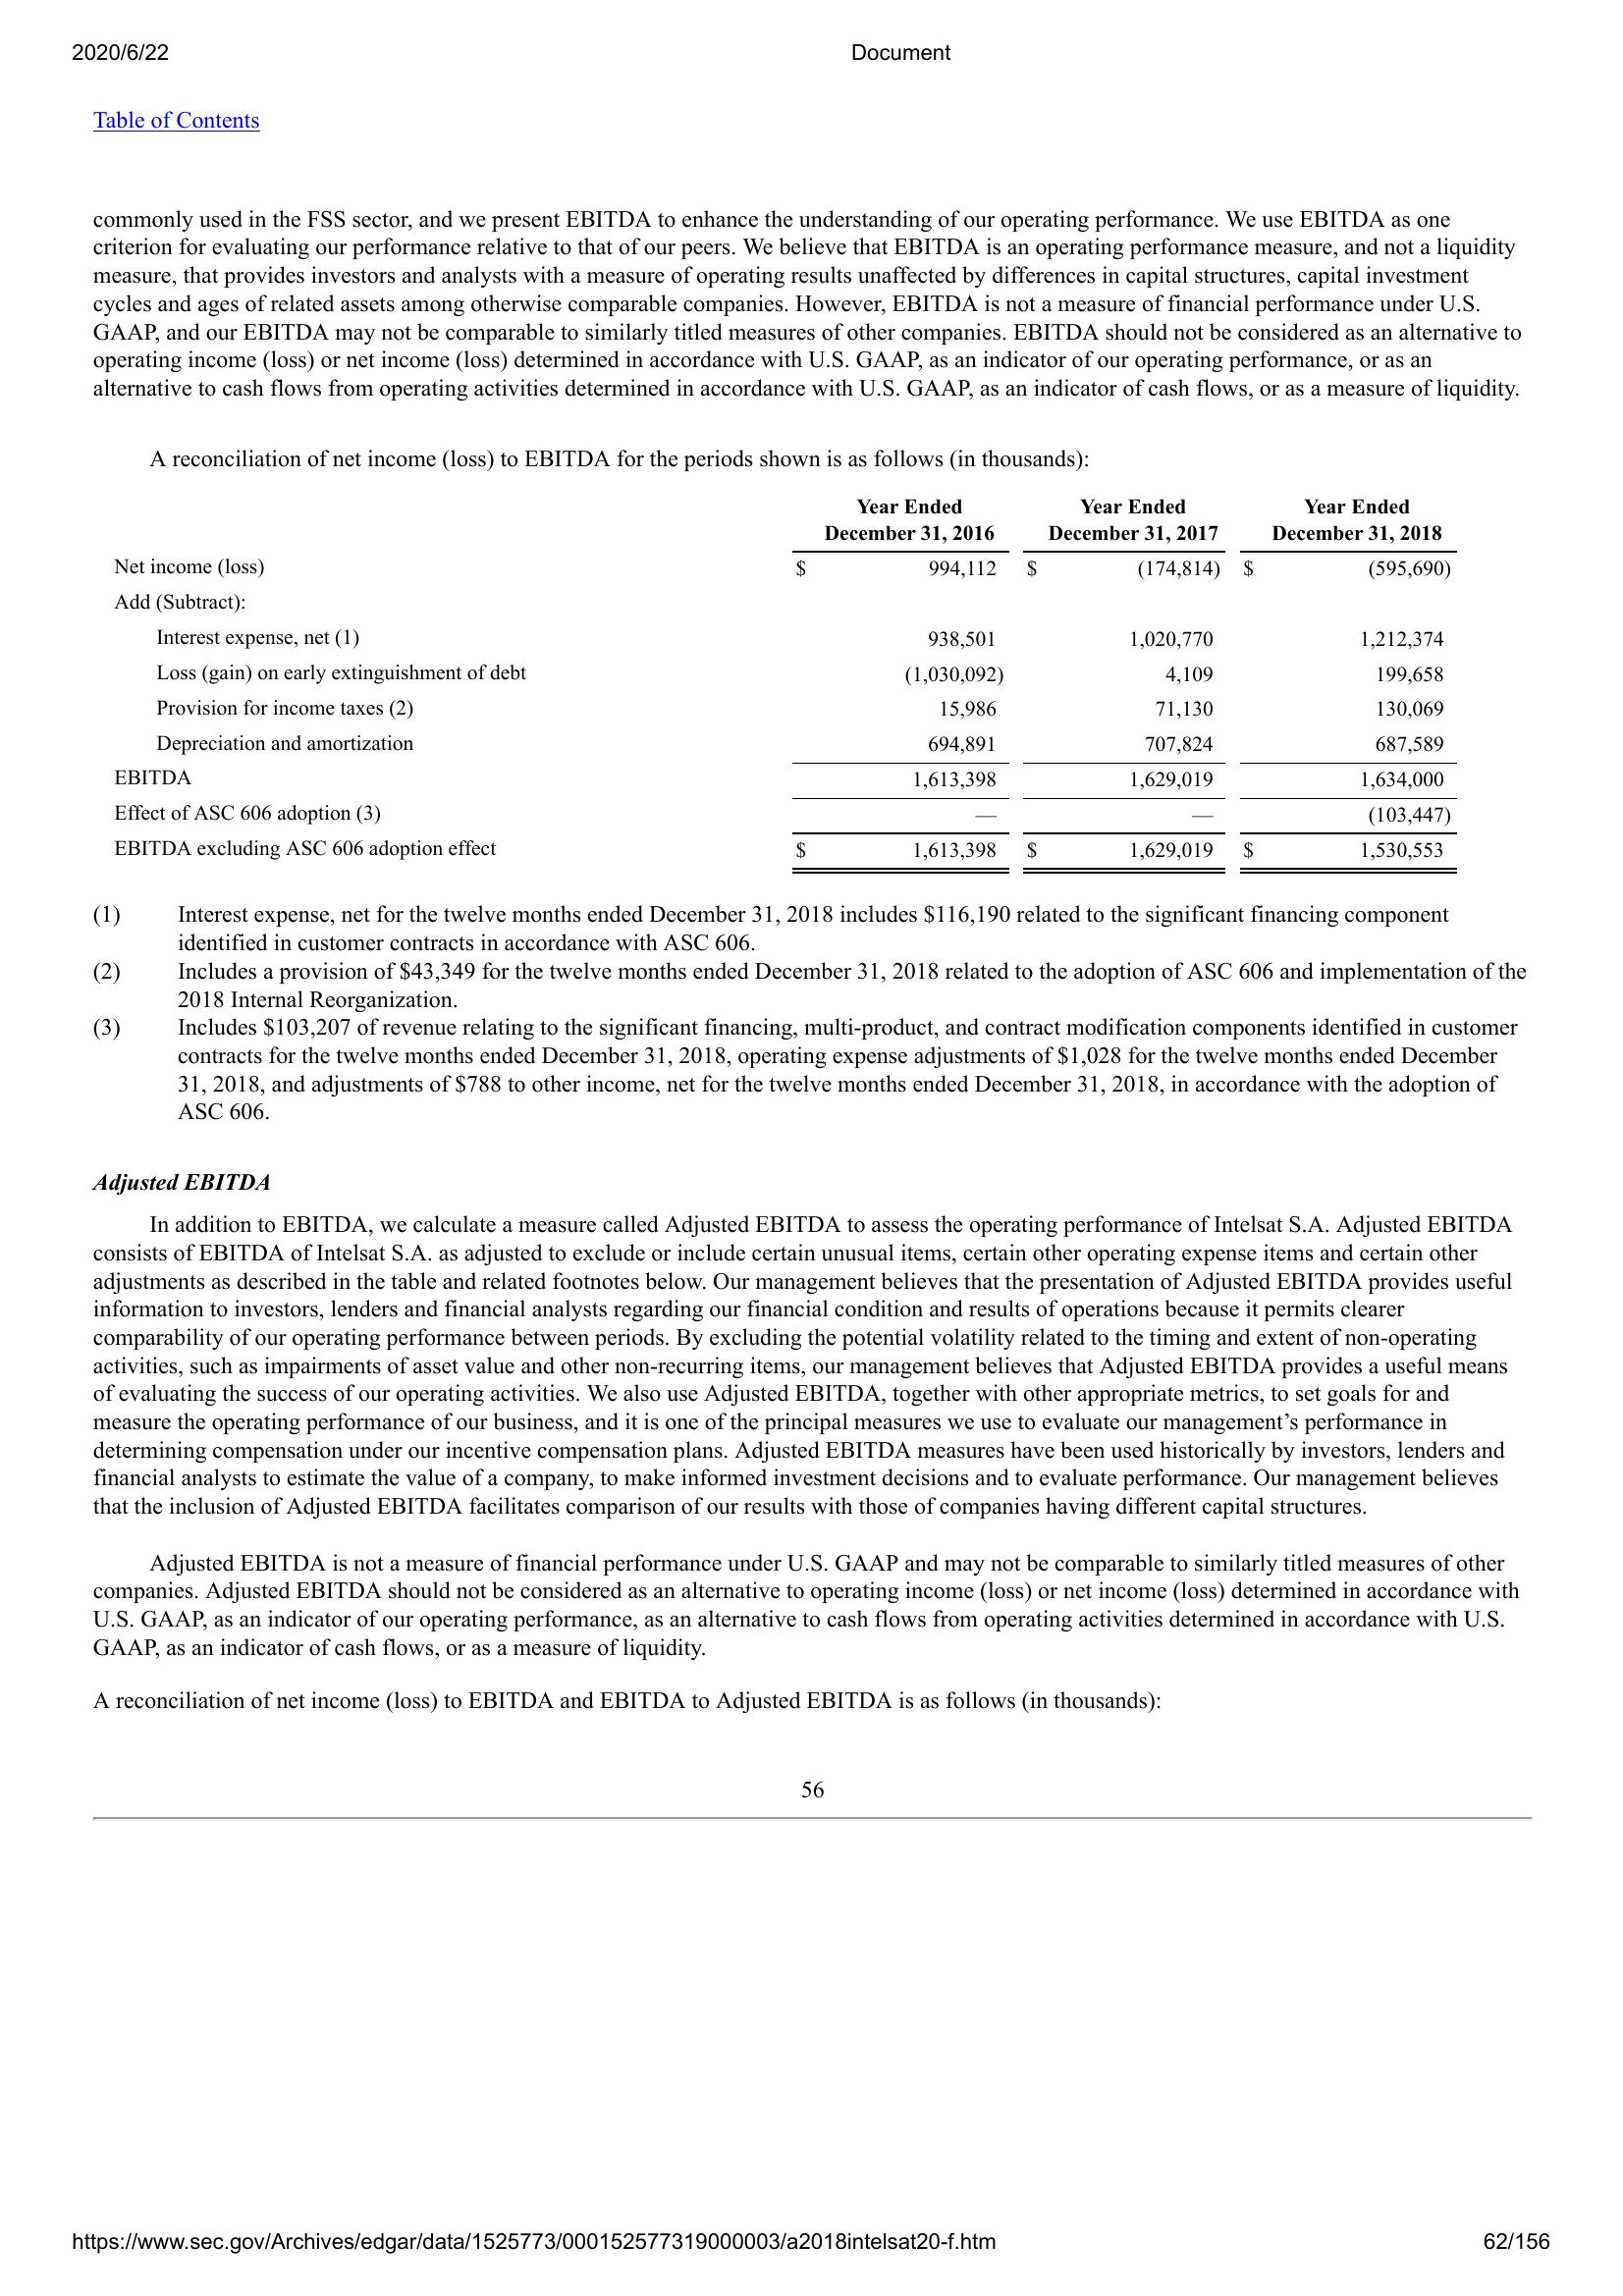table: (102, 491, 1461, 881)
